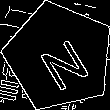N_NW: (28, 25, 90, 89)
